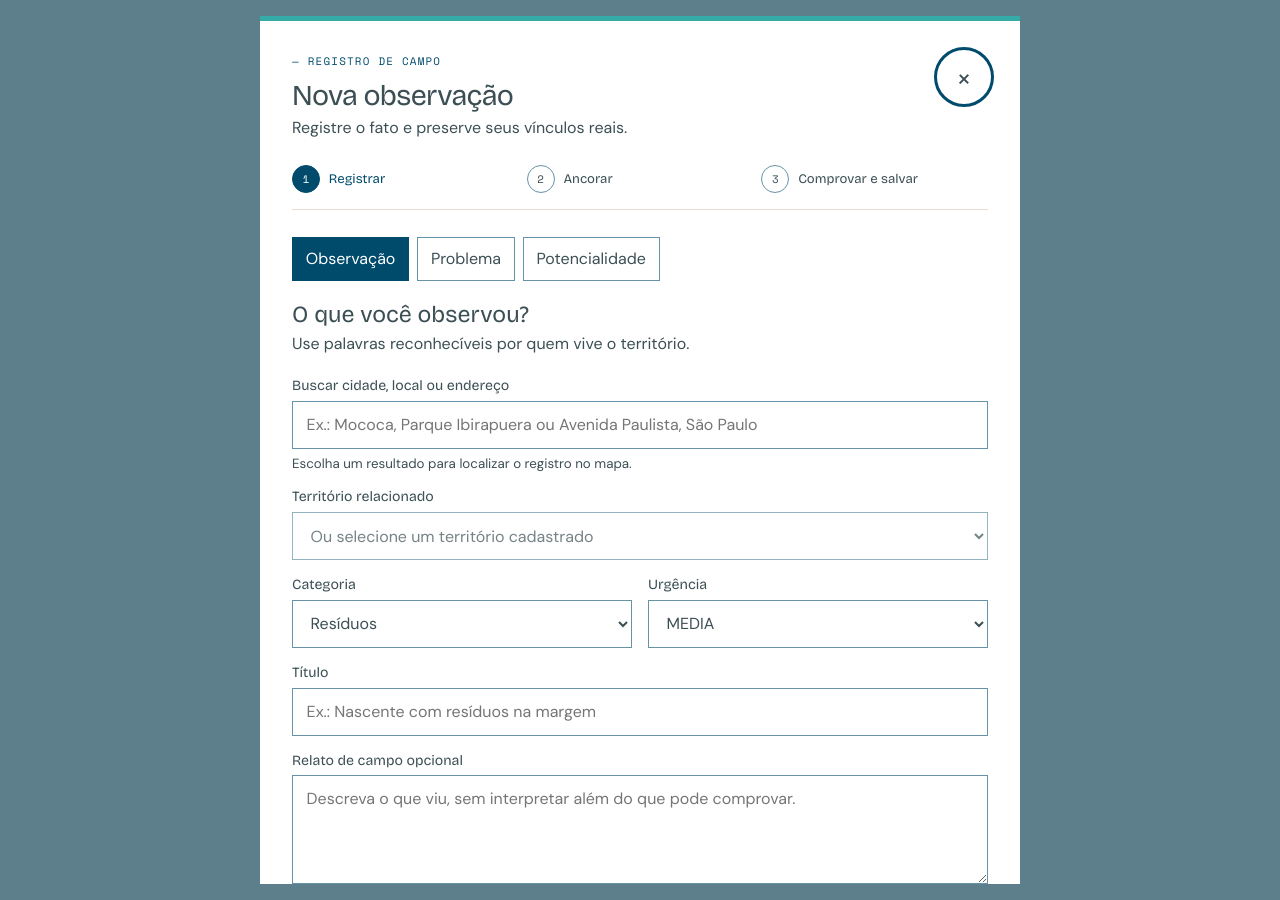
Scenario: field observation capture › only applies an AI category after review, preserves urgency and invalidates stale suggestions
Type "Esgoto vazando e água contaminada" into the field labelled "Título" at (640, 712), box [292,688,988,736]
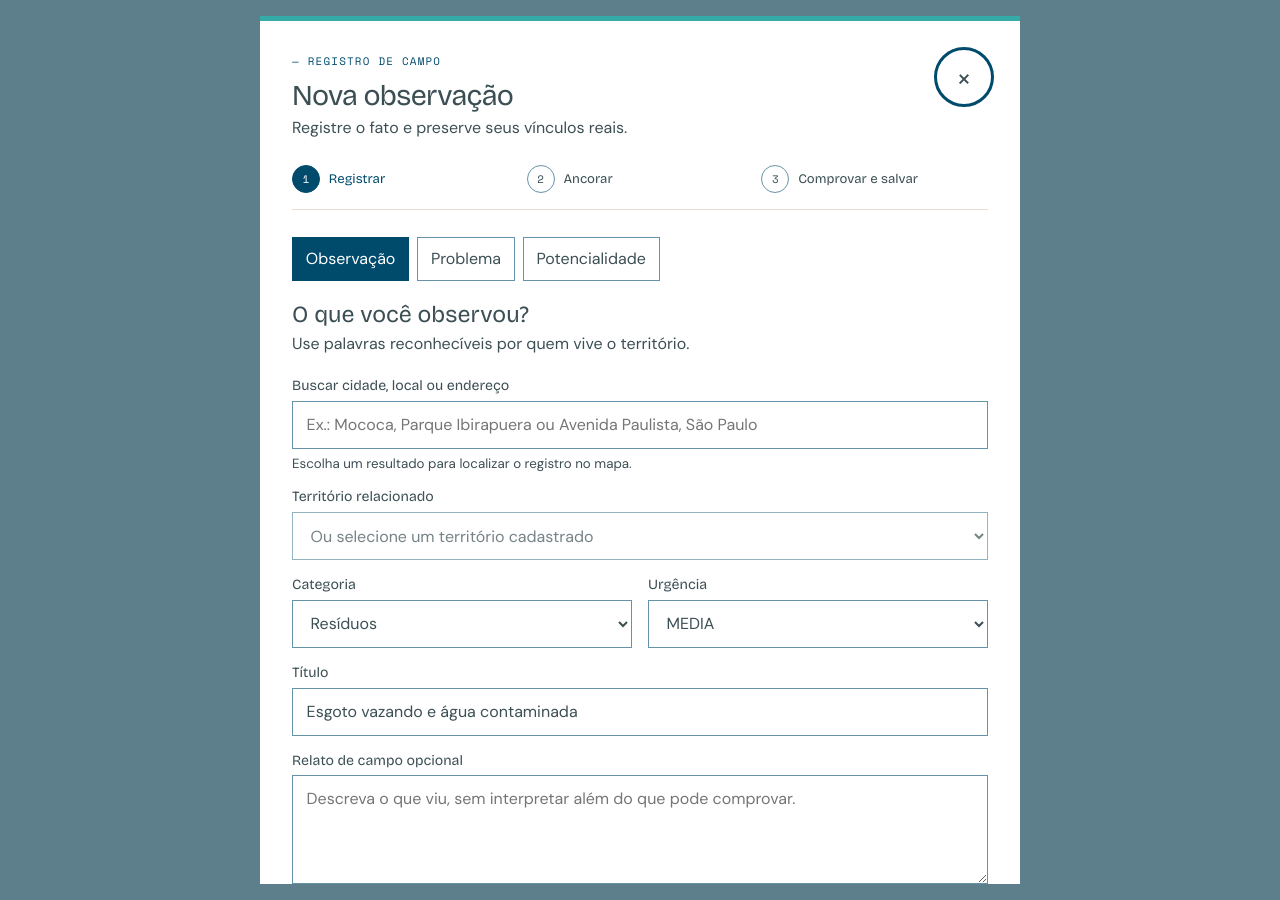
Select "BAIXA" in the dropdown labelled "Urgência" at (818, 624), box [648,600,988,648]
(page scrolled)
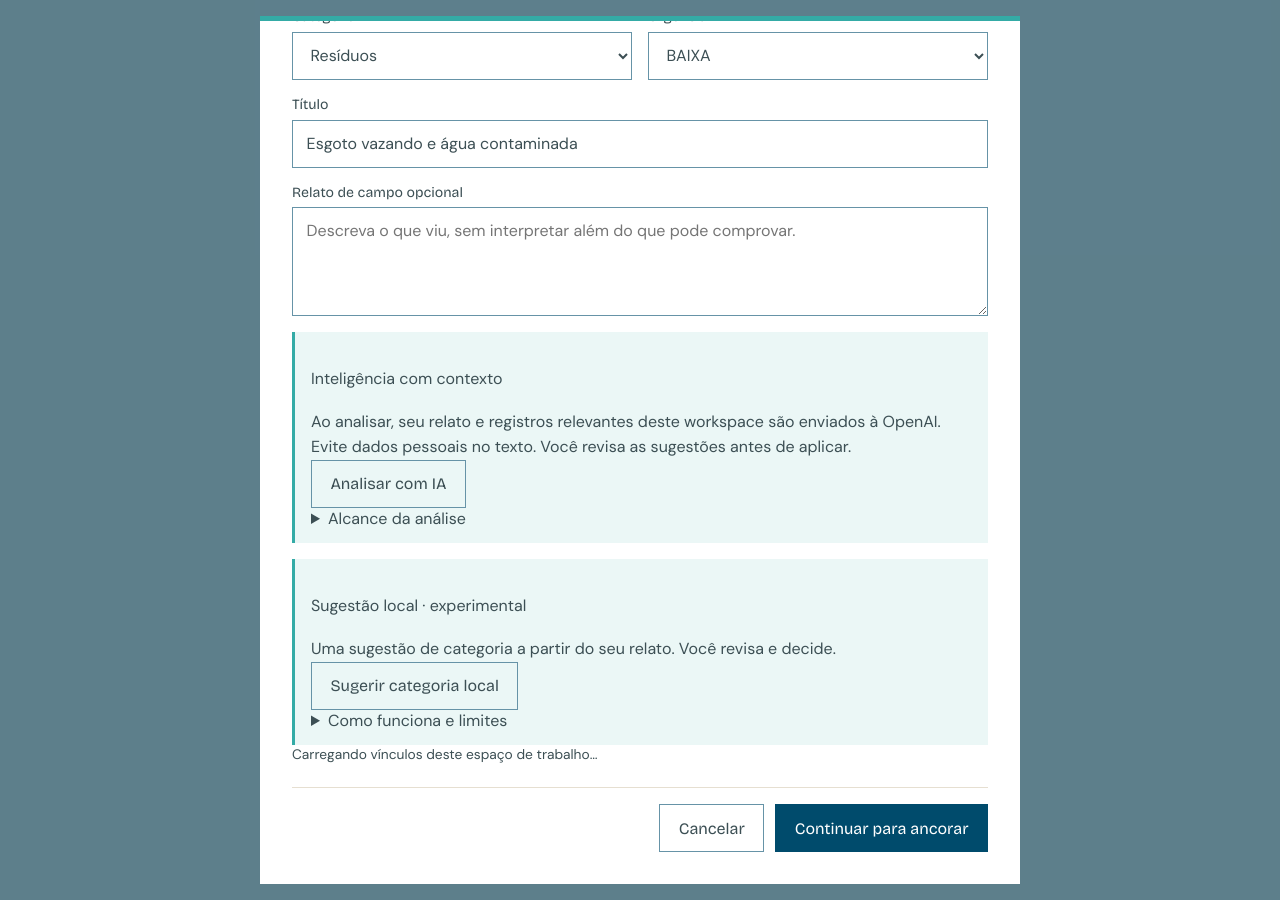
Click the button "Sugerir categoria local" at (415, 686), box [311,662,518,710]
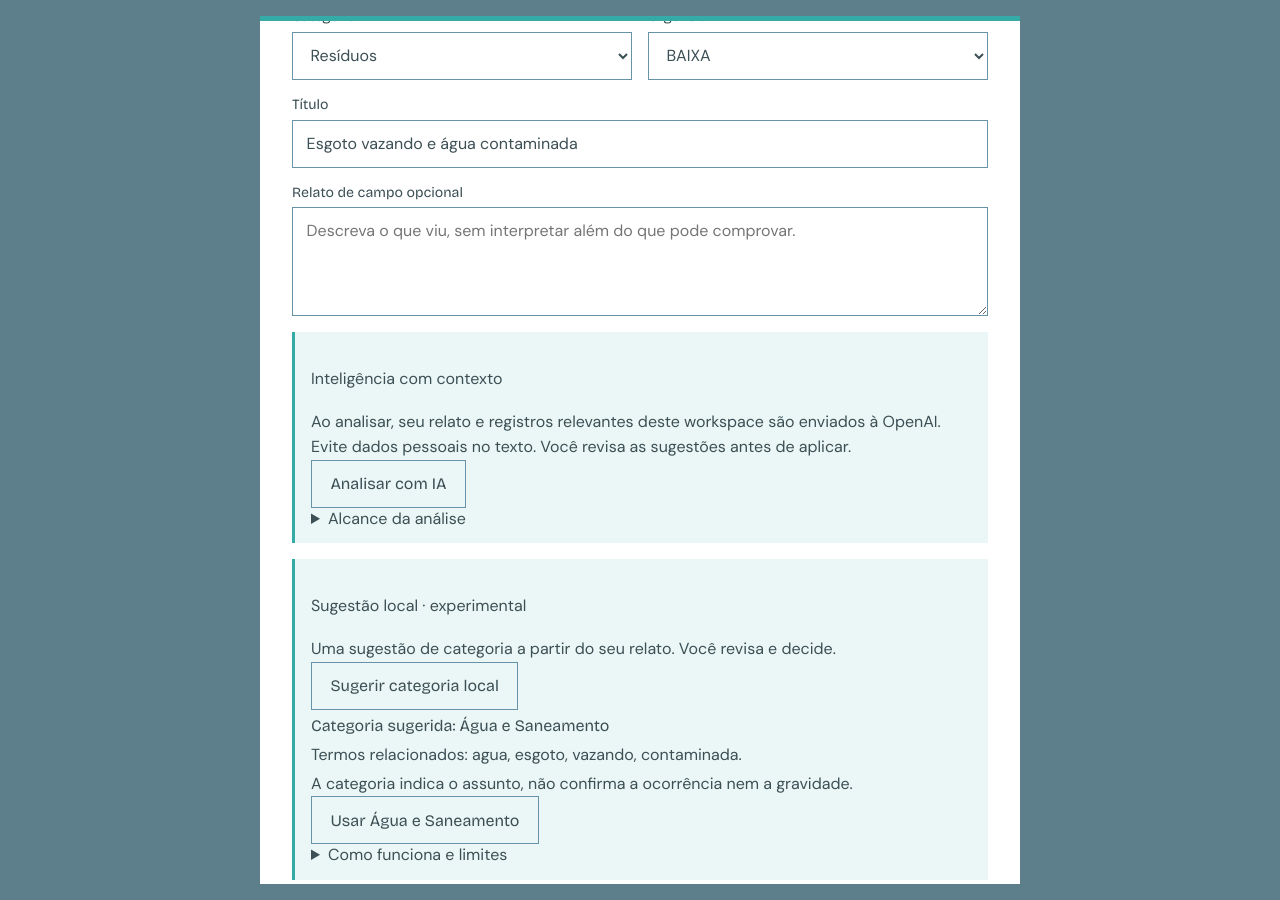
Expected: the dropdown labelled "Categoria" shows "Resíduos", [292,32,632,80]
Expected: the button "Usar Água e Saneamento" is shown
Click the button "Usar Água e Saneamento" at (425, 820), box [311,796,539,844]
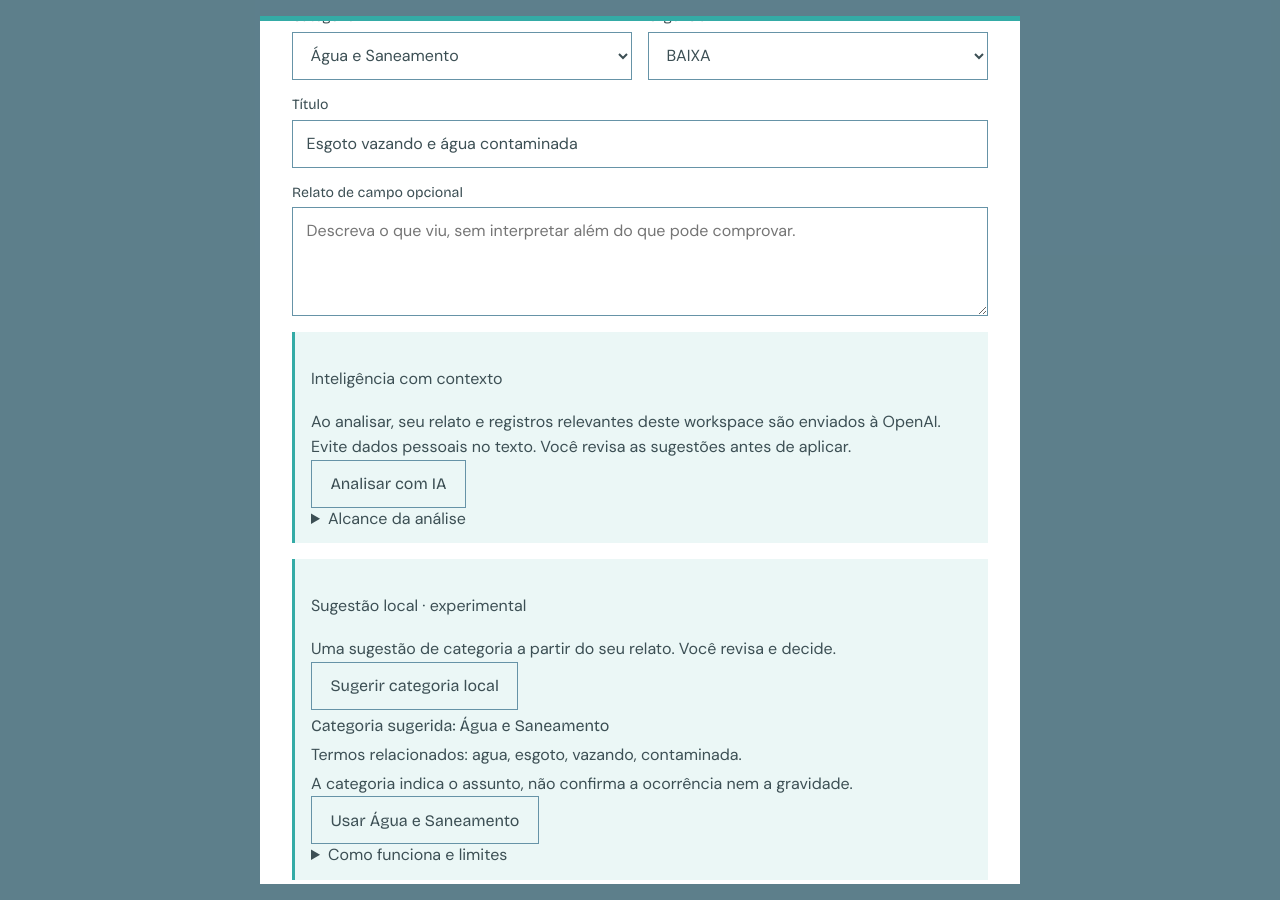
Expected: the dropdown labelled "Categoria" shows "Água e Saneamento", [292,32,632,80]
Replace the text in the field labelled "Título" with "Calçada quebrada atrapalha pedestres" at (640, 144), box [292,120,988,168]
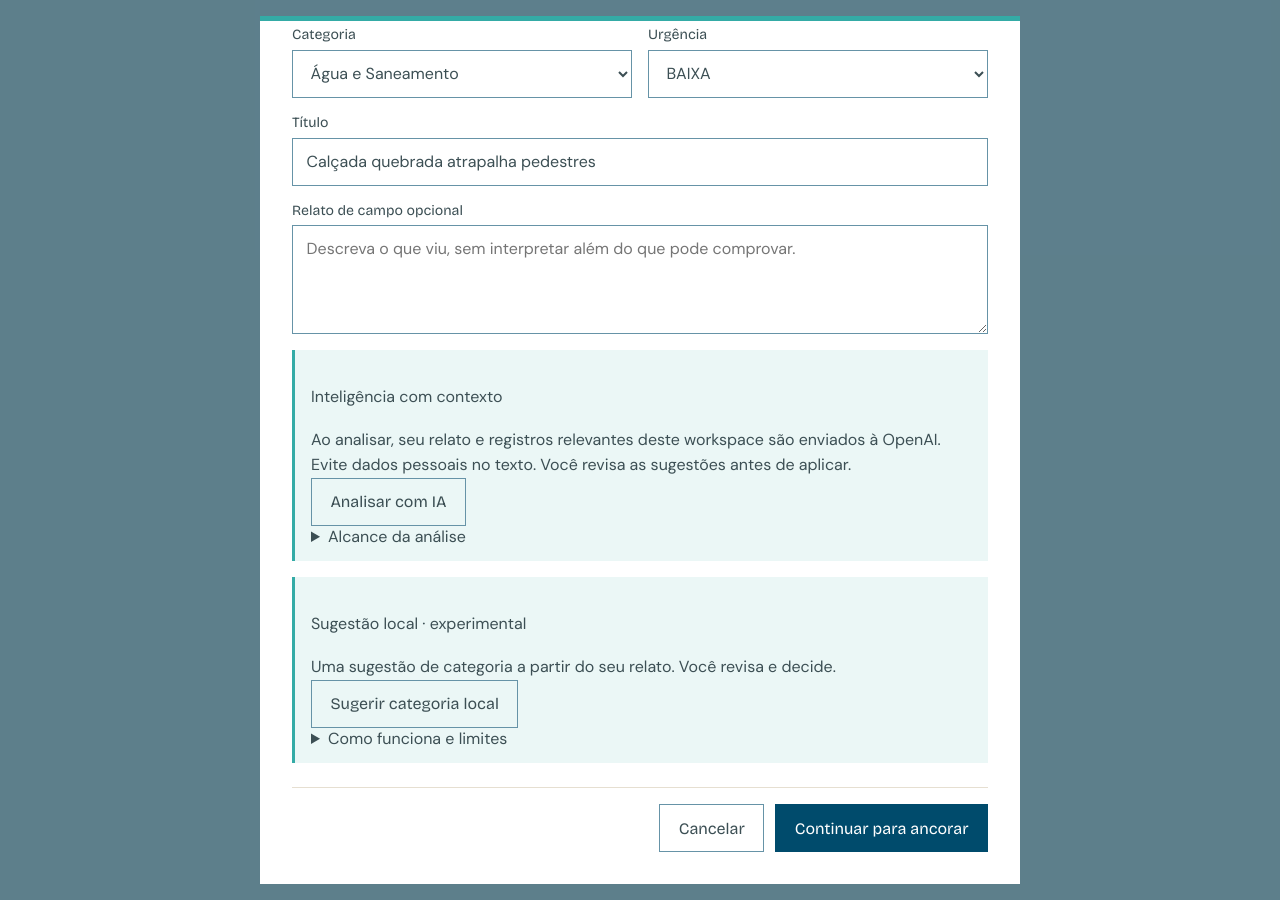
Expected: the dropdown labelled "Categoria" shows "Água e Saneamento", [292,50,632,98]
Expected: the button "Usar Água e Saneamento" is gone
Click the button "Sugerir categoria local" at (415, 704), box [311,680,518,728]
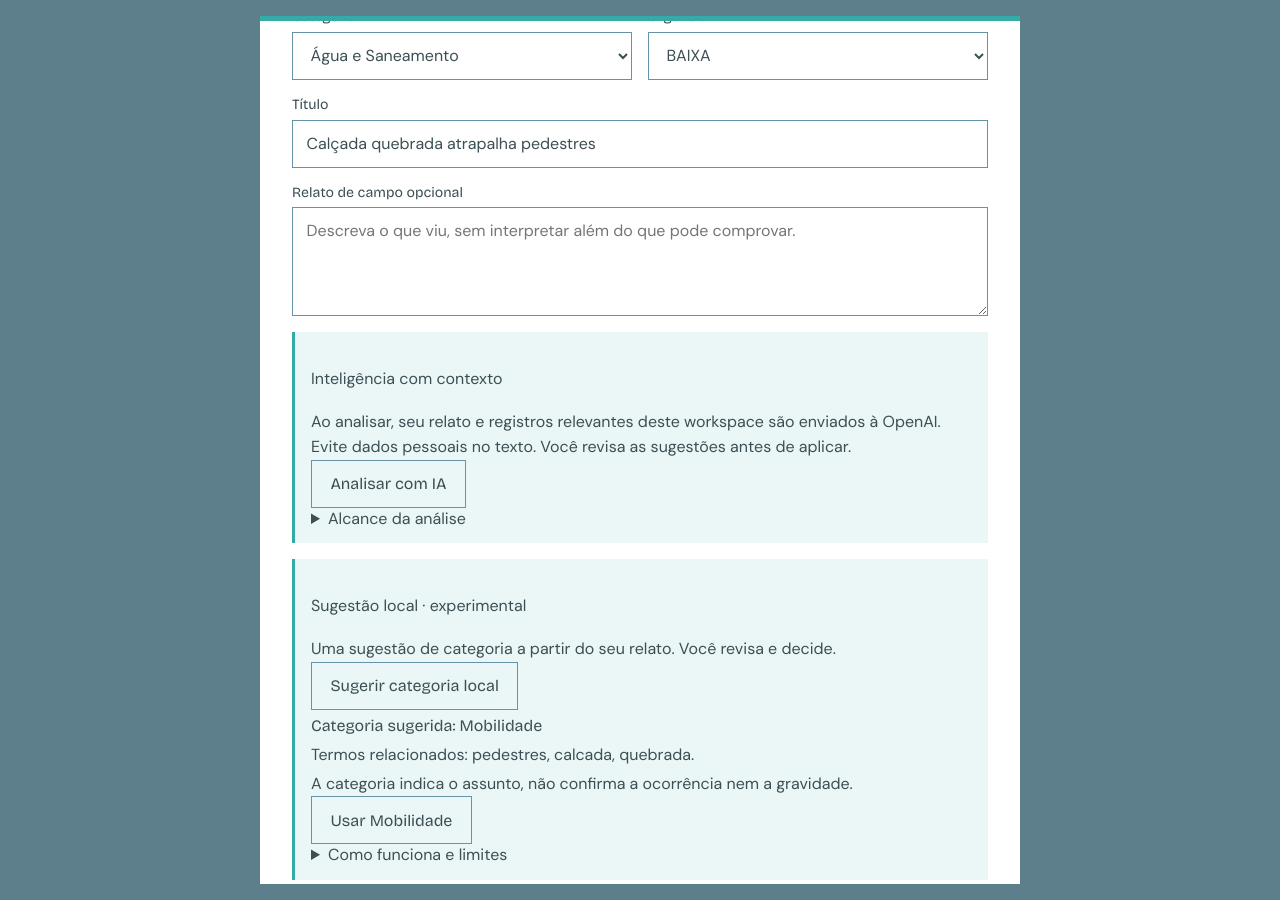
Expected: the button "Usar Mobilidade" is shown, [311,796,472,844]
